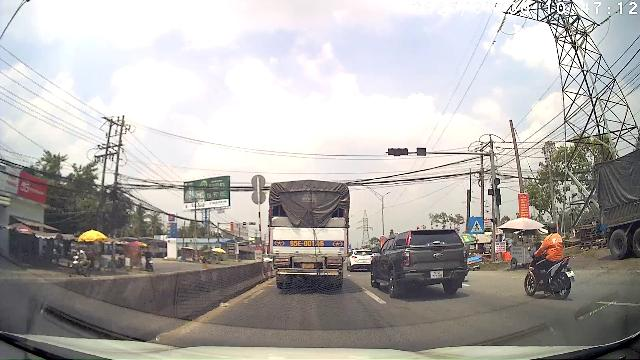423a-duong-nguoi-di-bo-sang-ngang-1: (469, 217, 484, 234)
